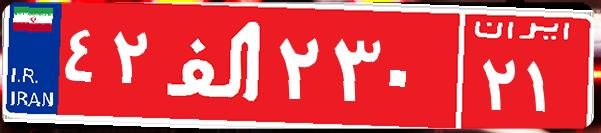0: (385, 28, 445, 110)
1: (525, 38, 570, 115)
2: (273, 28, 330, 110), (475, 38, 525, 113), (110, 28, 158, 105)
3: (330, 28, 385, 110)
4: (57, 26, 110, 107)
الف: (158, 15, 273, 115)
